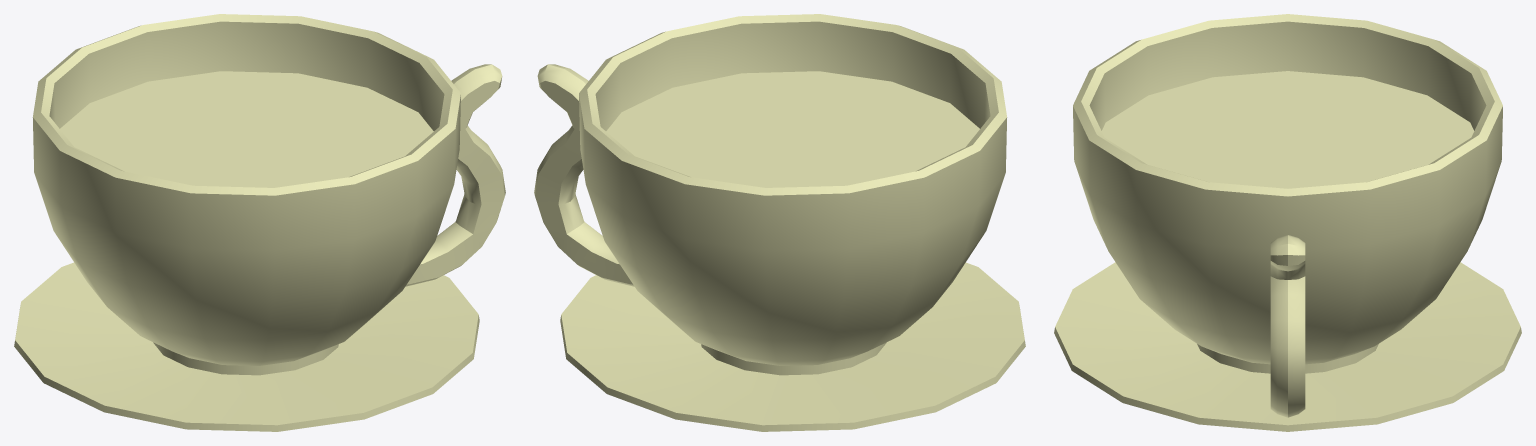
Rendered from PROPS_GOODS_COFFEE_MODEL_grp.fbx.
The picture shows the model from 3 angles, left to right: view 1: azimuth 30°, elevation 25°; view 2: azimuth 150°, elevation 25°; view 3: azimuth 270°, elevation 25°; orthographic projection.
Parts seen in each view (by area): view 1: PROPS_GOODS_COFFEE_MODEL_grp_PROPS_GOODS_COFFEE_CUP_MODEL, PROPS_GOODS_COFFEEPLATE_MODEL, PROPS_GOODS_COFFEE_MODEL; view 2: PROPS_GOODS_COFFEE_MODEL_grp_PROPS_GOODS_COFFEE_CUP_MODEL, PROPS_GOODS_COFFEEPLATE_MODEL, PROPS_GOODS_COFFEE_MODEL; view 3: PROPS_GOODS_COFFEE_MODEL_grp_PROPS_GOODS_COFFEE_CUP_MODEL, PROPS_GOODS_COFFEEPLATE_MODEL, PROPS_GOODS_COFFEE_MODEL.
Part boxes in pixels (x1,y1,x2,y2): PROPS_GOODS_COFFEE_MODEL_grp_PROPS_GOODS_COFFEE_CUP_MODEL: [32, 14, 505, 375]; PROPS_GOODS_COFFEEPLATE_MODEL: [14, 262, 479, 431]; PROPS_GOODS_COFFEE_MODEL: [60, 71, 433, 187]; PROPS_GOODS_COFFEE_MODEL_grp_PROPS_GOODS_COFFEE_CUP_MODEL: [534, 14, 1007, 375]; PROPS_GOODS_COFFEEPLATE_MODEL: [560, 262, 1025, 431]; PROPS_GOODS_COFFEE_MODEL: [606, 71, 979, 187]; PROPS_GOODS_COFFEE_MODEL_grp_PROPS_GOODS_COFFEE_CUP_MODEL: [1073, 14, 1502, 417]; PROPS_GOODS_COFFEEPLATE_MODEL: [1054, 262, 1521, 431]; PROPS_GOODS_COFFEE_MODEL: [1101, 71, 1474, 188].
Bounding box in the file's own units: 15.53 × 7.96 × 13.74.
